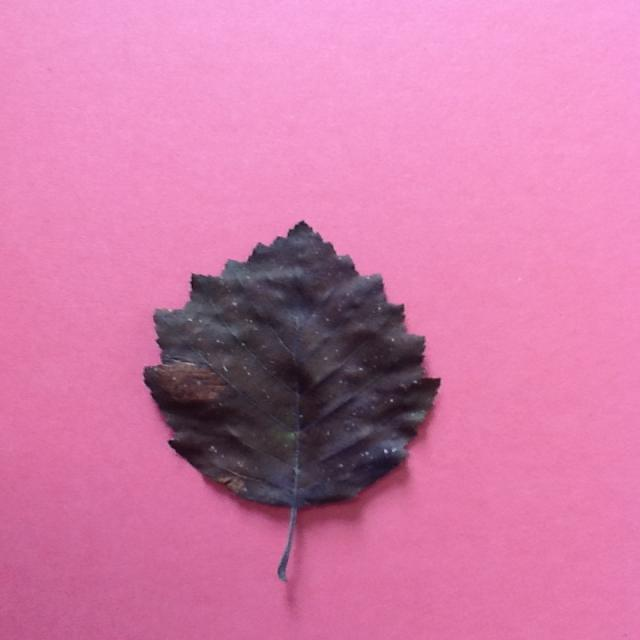foliage: (139, 217, 441, 591)
